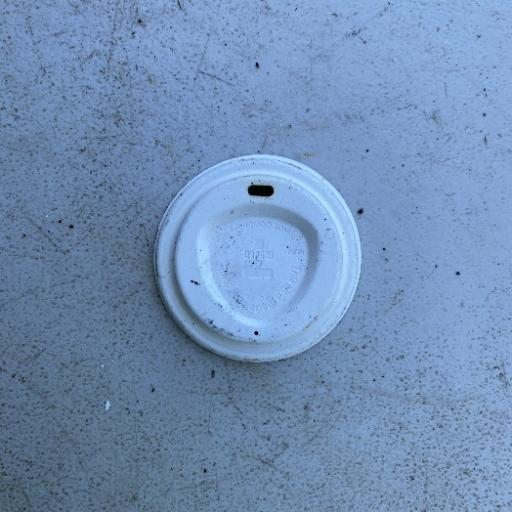Plastic: (150, 152, 364, 364)
